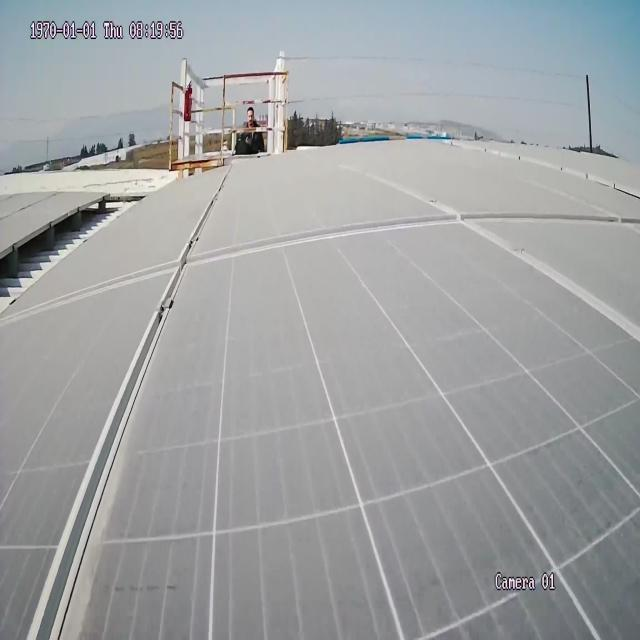interior panel: (0, 171, 638, 638)
outher panel: (0, 185, 155, 314)
